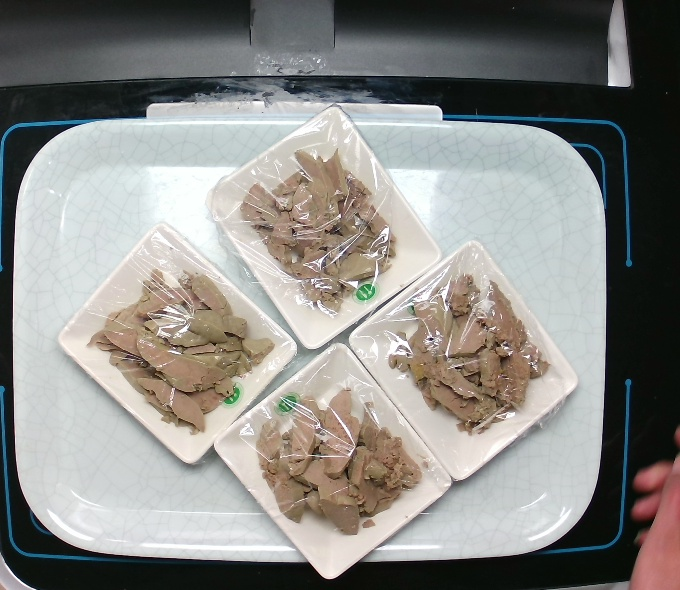wcq-EGan: (82, 261, 278, 440), (383, 269, 558, 440), (236, 144, 401, 321), (249, 380, 431, 537)
